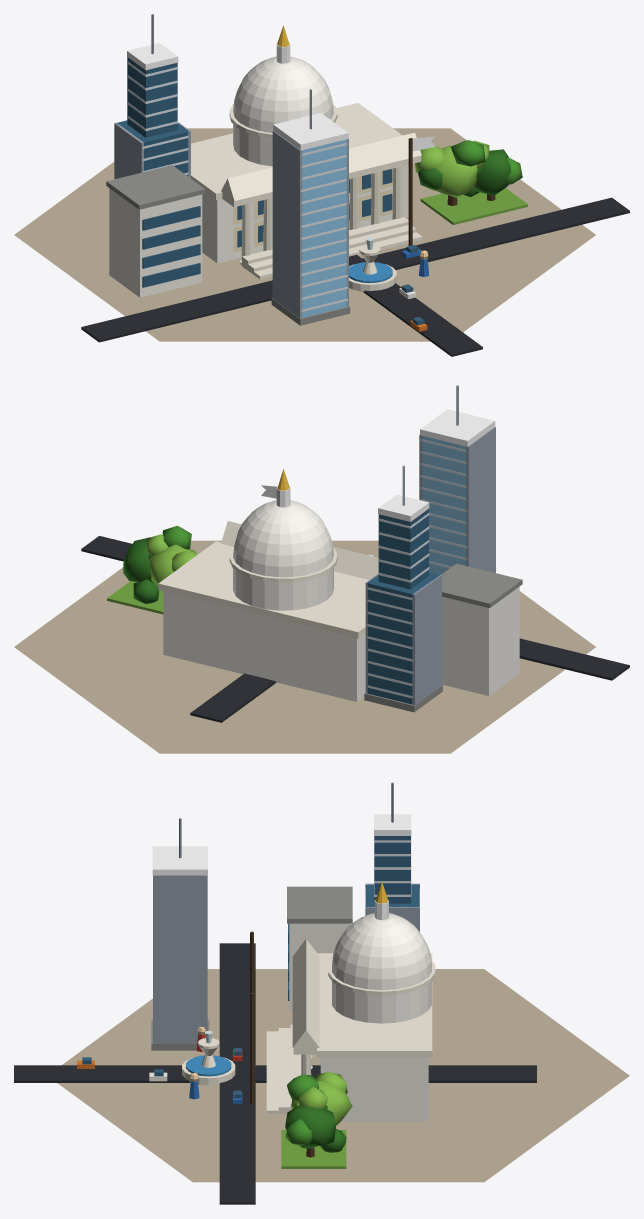
Rendered from capital_3_3.fbx.
3 renders of one model, top to bottom at view 1: azimuth 30°, elevation 25°; view 2: azimuth 150°, elevation 25°; view 3: azimuth 270°, elevation 25°, orthographic.
Visible parts, largest first — view 1: capital_3_3; view 2: capital_3_3; view 3: capital_3_3.
Boxes of the visible parts, left/top/right/bottom form: capital_3_3: left=14, top=14, right=629, bottom=356; capital_3_3: left=14, top=385, right=629, bottom=753; capital_3_3: left=14, top=782, right=629, bottom=1204.
Bounding box in the file's own units: 221 × 92.05 × 222.
